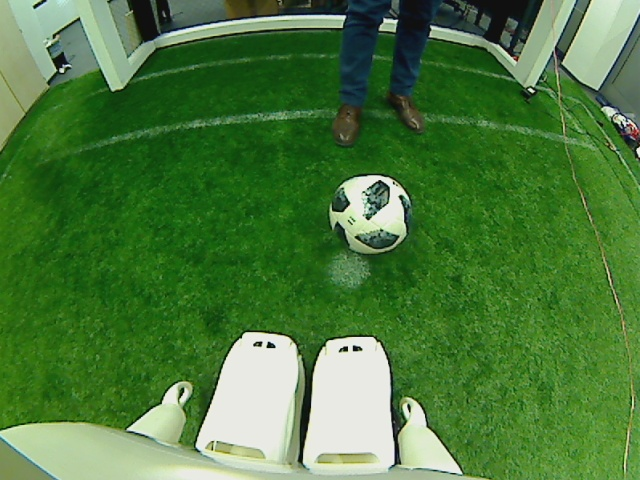ball: (327, 163, 409, 263)
